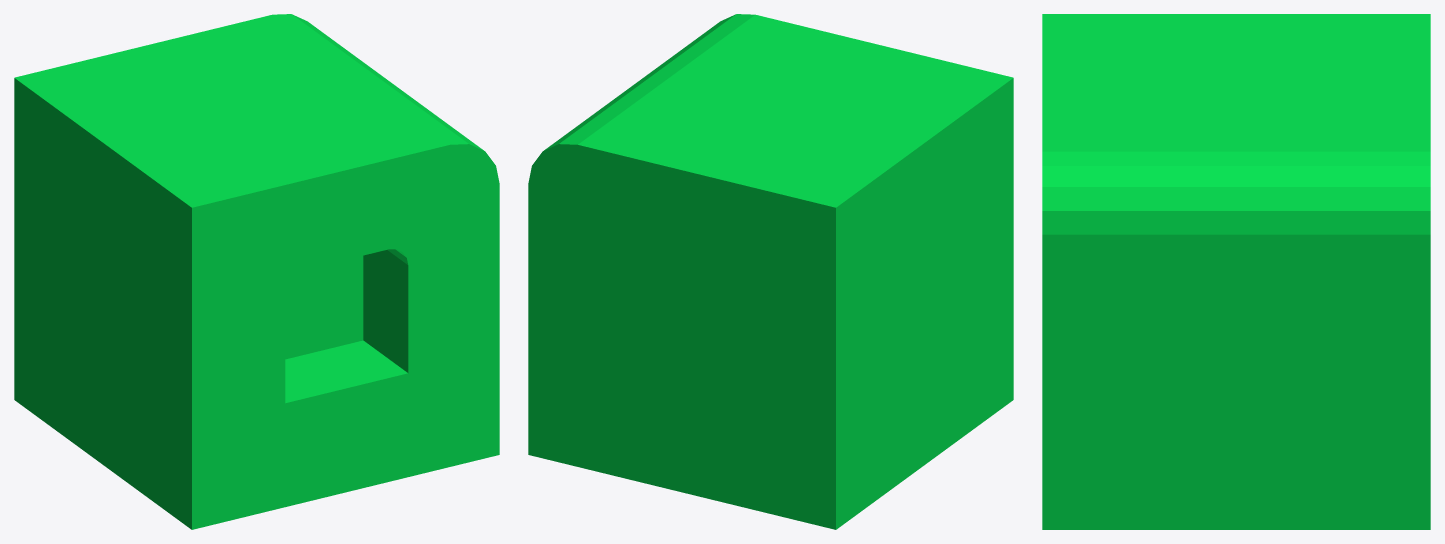
File: green_box.gltf
3 renders of one model, left to right at view 1: azimuth 30°, elevation 25°; view 2: azimuth 150°, elevation 25°; view 3: azimuth 270°, elevation 25°, orthographic. The views are drawn at different scales.
Visible parts, largest first — view 1: Cube; view 2: Cube; view 3: Cube.
Boxes of the visible parts, x1,y1,x2,y2 form: Cube: [14, 14, 499, 529]; Cube: [528, 14, 1013, 529]; Cube: [1042, 14, 1430, 529].
Bounding box in the file's own units: 2 × 2 × 2.
